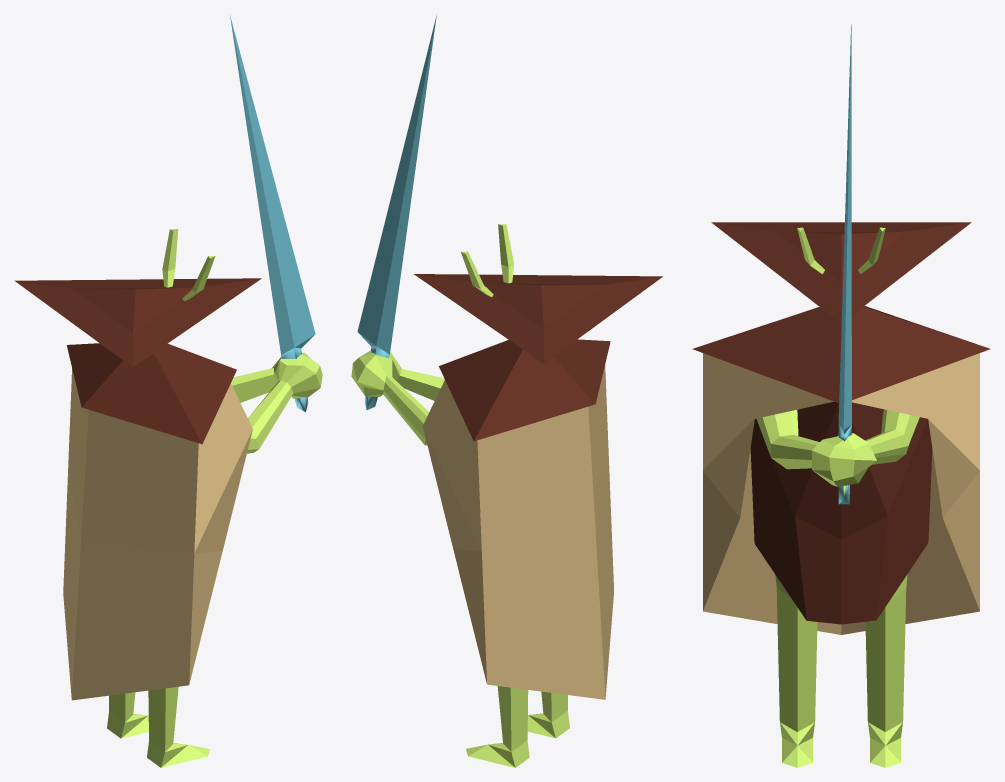
The model's file is nukitsamees_big1.glb.
3 views of the same model, side by side, from view 1: azimuth 30°, elevation 25°; view 2: azimuth 150°, elevation 25°; view 3: azimuth 270°, elevation 25° (orthographic). The views are drawn at different scales.
Visible parts, largest first — view 1: body, head.002, arms, leg.001, leg.002; view 2: body, head.002, arms, leg.002, leg.001; view 3: body, head.002, arms, leg.002, leg.001.
Boxes of the visible parts, x1,y1,x2,y2 form: body: (63, 343, 252, 700); head.002: (14, 229, 261, 367); arms: (230, 15, 322, 453); leg.001: (147, 686, 210, 767); leg.002: (107, 692, 148, 738); body: (422, 339, 613, 699); head.002: (414, 224, 662, 363); arms: (351, 14, 444, 445); leg.002: (466, 686, 529, 767); leg.001: (527, 691, 569, 738); body: (692, 306, 990, 634); head.002: (711, 222, 971, 323); arms: (756, 24, 919, 504); leg.002: (865, 574, 907, 767); leg.001: (775, 575, 817, 767).
Size of the model in its own units: 1.89 by 5.18 by 1.8.
